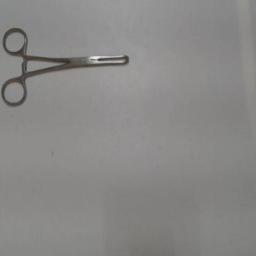Allis Tissue Forceps: (0, 24, 138, 112)
